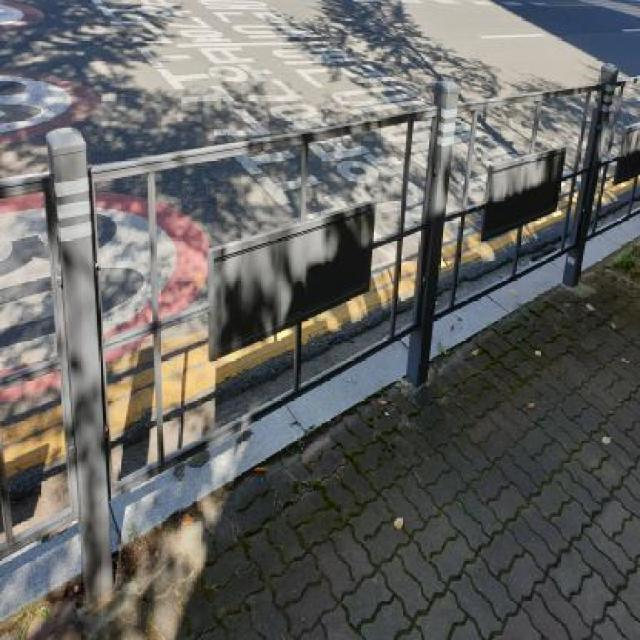fence: (28, 71, 450, 589), (376, 4, 640, 404)
